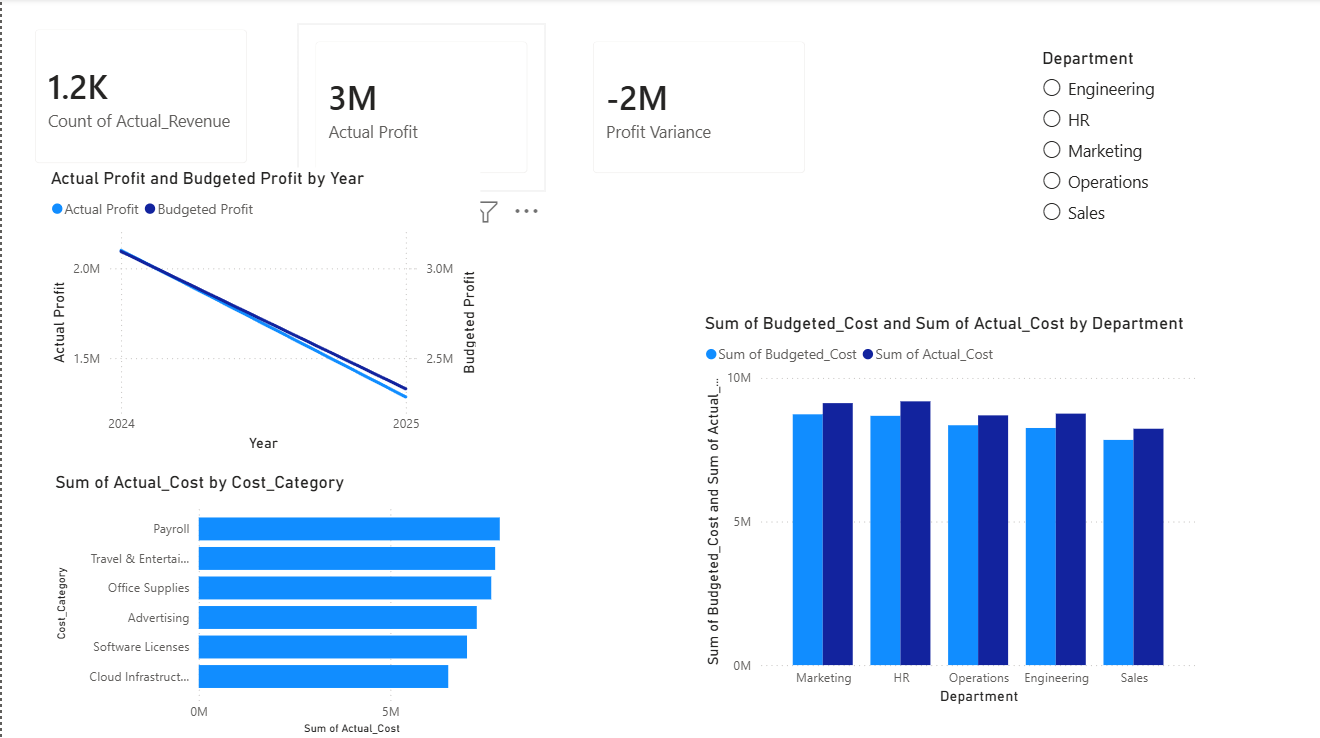

This screenshot's page, from the dashboard's own definition file:
{"tool":"powerbi","page":{"name":"Page 1","canvas":[1280,720],"ordinal":0},"visuals":[{"type":"cardVisual","fields":{"Data":["CountNonNull(financial_performance_data.Actual_Revenue)"]},"box":[14.2,12.7,240.4,164.5],"z":0},{"type":"cardVisual","fields":{"Data":["financial_performance_data.Actual Profit"]},"box":[286.3,25.3,240.4,162.9],"z":1000},{"type":"cardVisual","fields":{"Data":["financial_performance_data.Profit Variance"]},"box":[556.7,25.3,240.4,162.9],"z":2000},{"type":"lineChart","fields":{"Category":["financial_performance_data.Date.Variation.Date Hierarchy.Year","financial_performance_data.Date.Variation.Date Hierarchy.Month"],"Y":["financial_performance_data.Actual Profit"],"Y2":["financial_performance_data.Budgeted Profit"]},"box":[42.7,164.5,422.3,279.9],"z":3000},{"type":"clusteredBarChart","fields":{"Category":["financial_performance_data.Cost_Category"],"Y":["Sum(financial_performance_data.Actual_Cost)"]},"box":[45.9,460.2,455.5,259.4],"z":3001},{"type":"clusteredColumnChart","fields":{"Category":["financial_performance_data.Department"],"Y":["Sum(financial_performance_data.Budgeted_Cost)","Sum(financial_performance_data.Actual_Cost)"]},"box":[676.9,305.2,487.1,384.3],"z":3002},{"type":"listSlicer","fields":{"Values":["financial_performance_data.Department"]},"box":[1004.3,47.4,275.2,234.1],"z":3003}]}

Visuals, with their boxes in screenshot pixels (x1, y1, x2, y2), scaled from the page's 1280x720 canvas onto the 1320x738 screenshot:
cardVisual - CountNonNull(financial_performance_data.Actual_Revenue): <region>15, 13, 263, 182</region>
cardVisual - financial_performance_data.Actual Profit: <region>295, 26, 543, 193</region>
cardVisual - financial_performance_data.Profit Variance: <region>574, 26, 822, 193</region>
lineChart - financial_performance_data.Date.Variation.Date Hierarchy.Year x financial_performance_data.Date.Variation.Date Hierarchy.Month: <region>44, 169, 480, 456</region>
clusteredBarChart - financial_performance_data.Cost_Category x Sum(financial_performance_data.Actual_Cost): <region>47, 472, 517, 737</region>
clusteredColumnChart - financial_performance_data.Department x Sum(financial_performance_data.Budgeted_Cost): <region>698, 313, 1200, 707</region>
listSlicer - financial_performance_data.Department: <region>1036, 49, 1319, 289</region>
